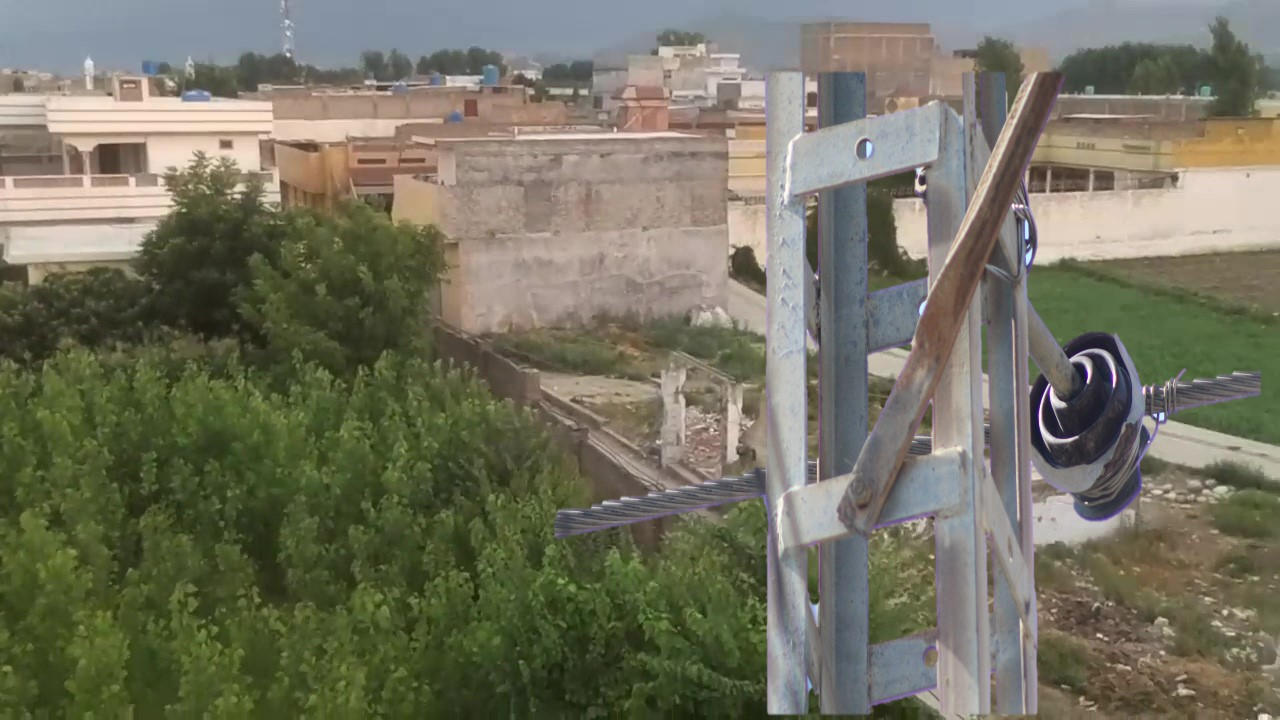defect_pin: (1027, 315, 1169, 530)
